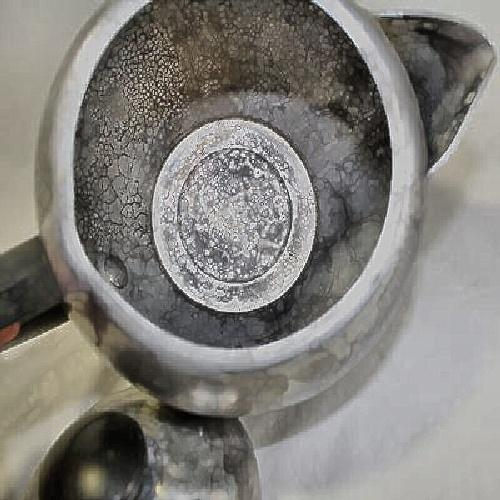kettle: (50, 9, 444, 438)
